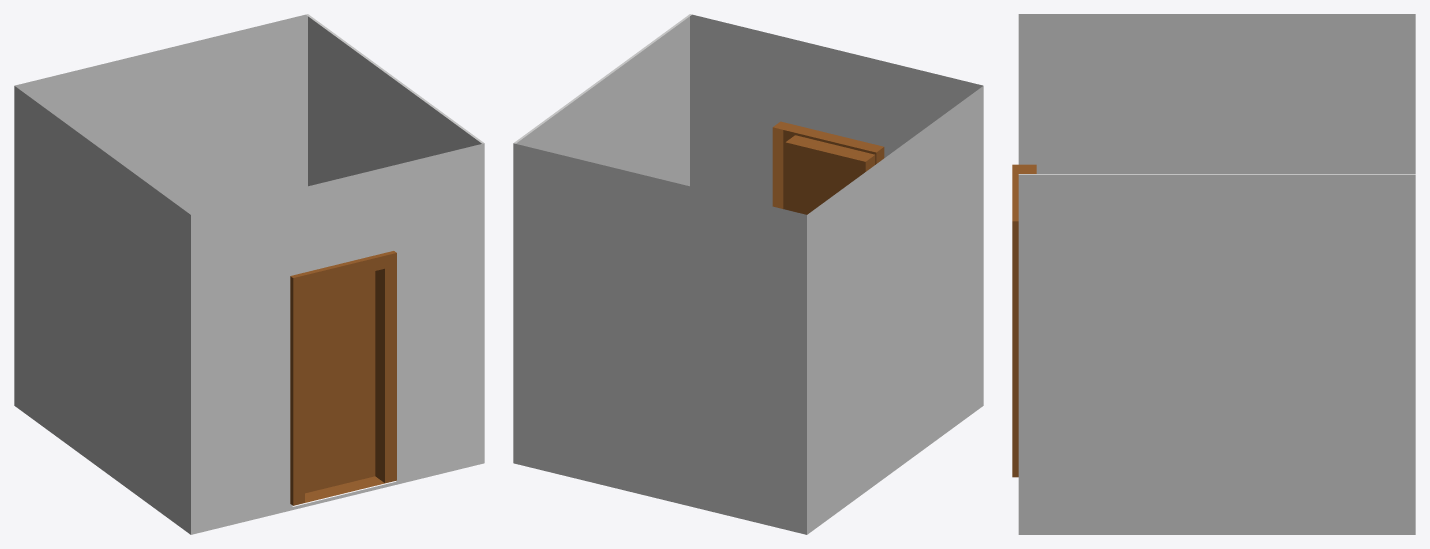
Rendered from door_block.gltf.
3 views of the same model, side by side, from view 1: azimuth 30°, elevation 25°; view 2: azimuth 150°, elevation 25°; view 3: azimuth 270°, elevation 25° (orthographic). The views are drawn at different scales.
Parts seen in each view (by area): view 1: Cube, Door; view 2: Cube, Door; view 3: Cube, Door.
Boxes of the visible parts, x1,y1,x2,y2 form: Cube: [14, 14, 484, 534]; Door: [290, 251, 396, 505]; Cube: [513, 14, 983, 534]; Door: [772, 121, 884, 214]; Cube: [1018, 14, 1415, 534]; Door: [1012, 164, 1036, 477].
Size of the model in its own units: 1.92 by 2 by 2.03.
